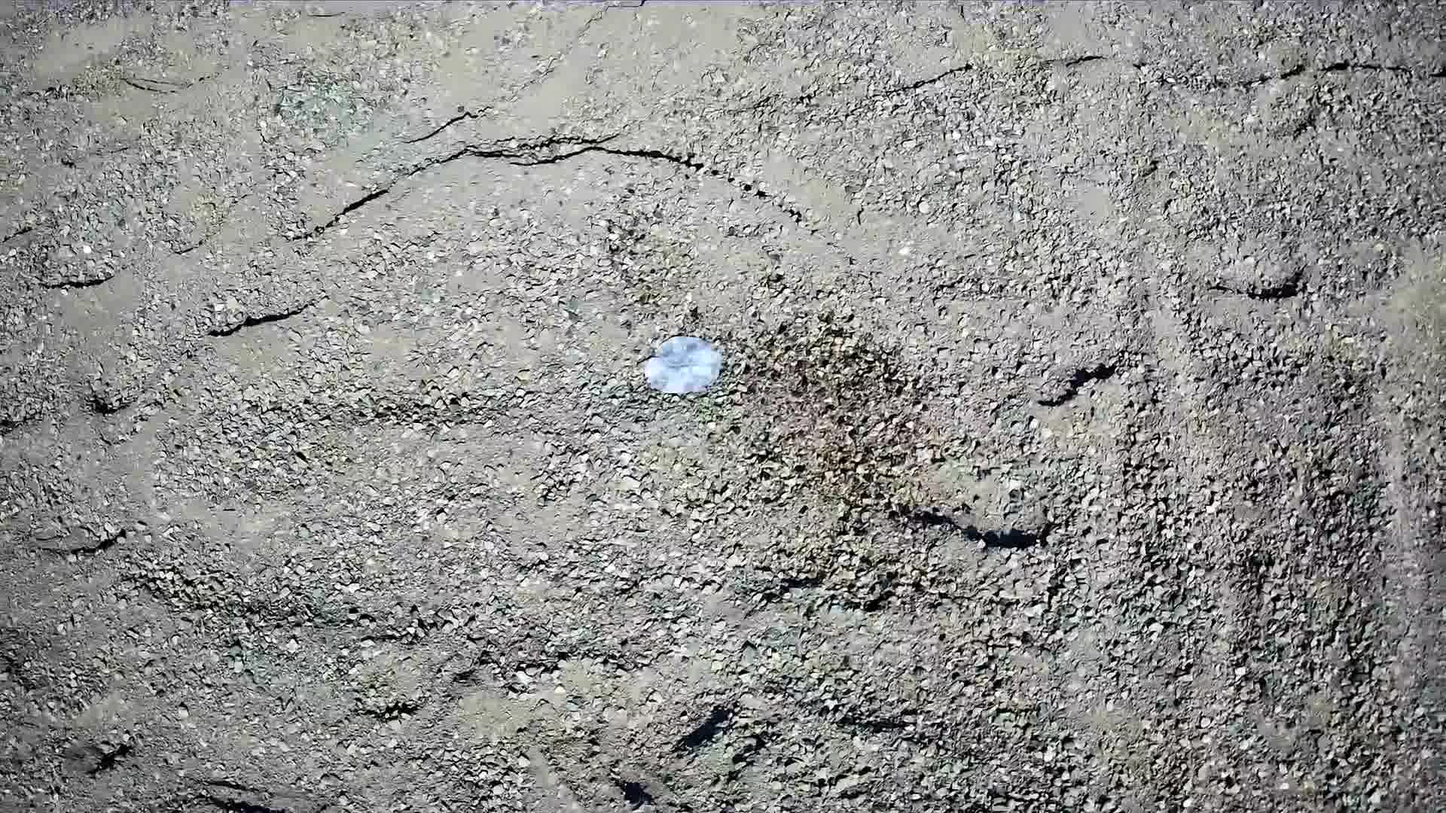Target: (643, 339, 722, 392)
